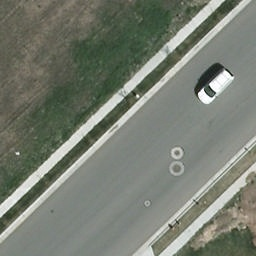car: (198, 69, 236, 107)
